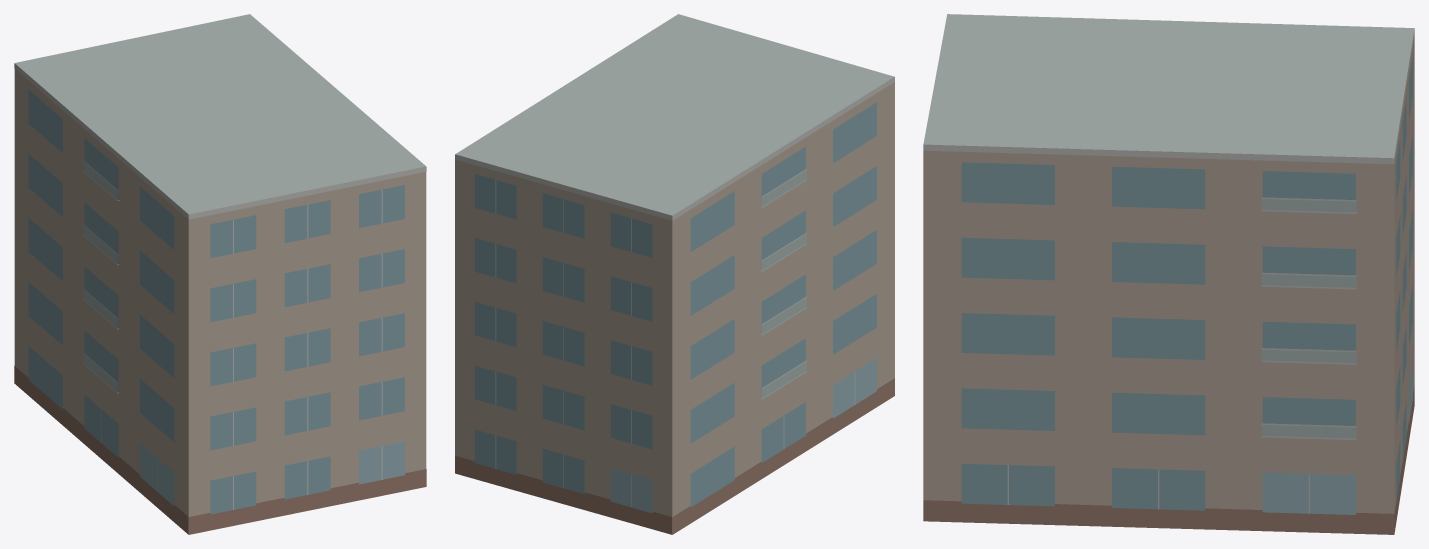
Rendered from survey-upis-32871962.glb.
3 views of the same model, side by side, from view 1: azimuth 30°, elevation 25°; view 2: azimuth 150°, elevation 25°; view 3: azimuth 270°, elevation 25° (orthographic). The views are drawn at different scales.
Parts seen in each view (by area): view 1: survey-upis-32871962.tmp; view 2: survey-upis-32871962.tmp; view 3: survey-upis-32871962.tmp.
Part boxes in pixels (left/top/right/bottom): survey-upis-32871962.tmp: left=14, top=14, right=426, bottom=534; survey-upis-32871962.tmp: left=455, top=14, right=894, bottom=534; survey-upis-32871962.tmp: left=923, top=14, right=1414, bottom=534.
Bounding box in the file's own units: 12.41 × 15.1 × 17.86.
